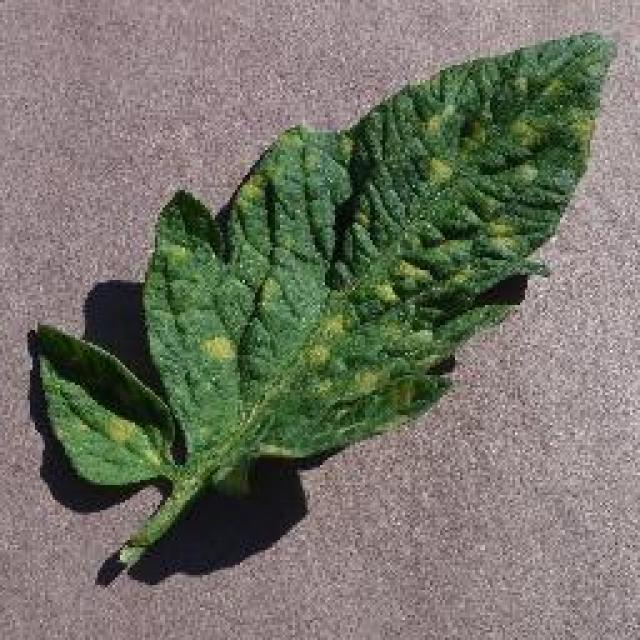Tomato mold leaf: (35, 30, 617, 520)
